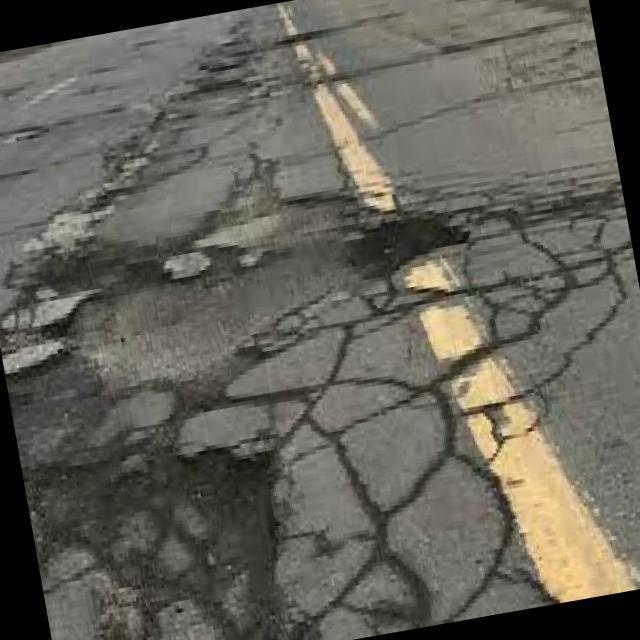-: (2, 344, 300, 640)
